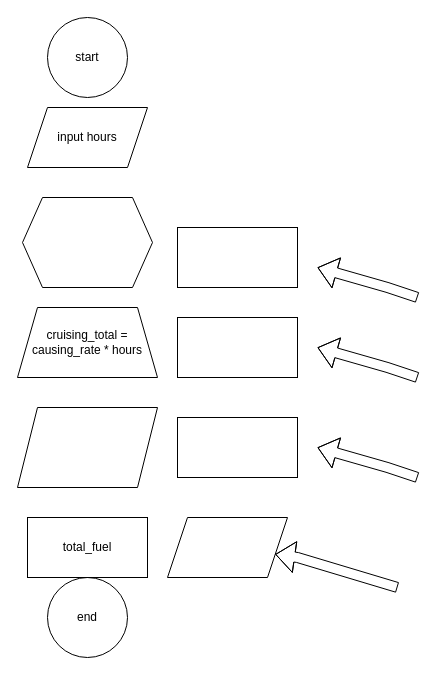
Some shapes in this 437 by 675 pixel diagram are drawn without their labels. Each missing label, with the centre of its shape:
"cruising_rate = 4776 landing = 1500 takeoff = 2600" belongs at point 87,242.
"set total_fuel = landing + takeoff + cruising_total" belongs at point 87,447.
